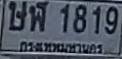1: (60, 3, 69, 32), (92, 5, 100, 33)
8: (72, 4, 86, 32)
9: (104, 6, 117, 33)
A39: (8, 0, 26, 30)
A42: (29, 0, 48, 31)
BKK: (18, 39, 105, 56)
